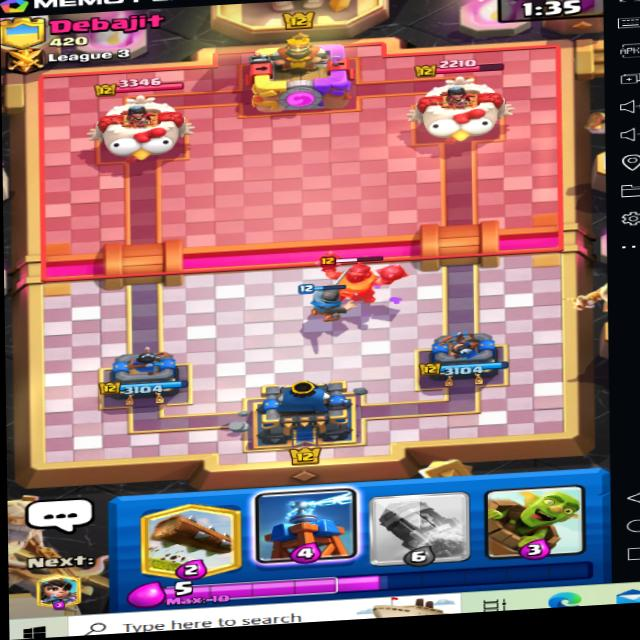mega-knight: (319, 248, 403, 308)
